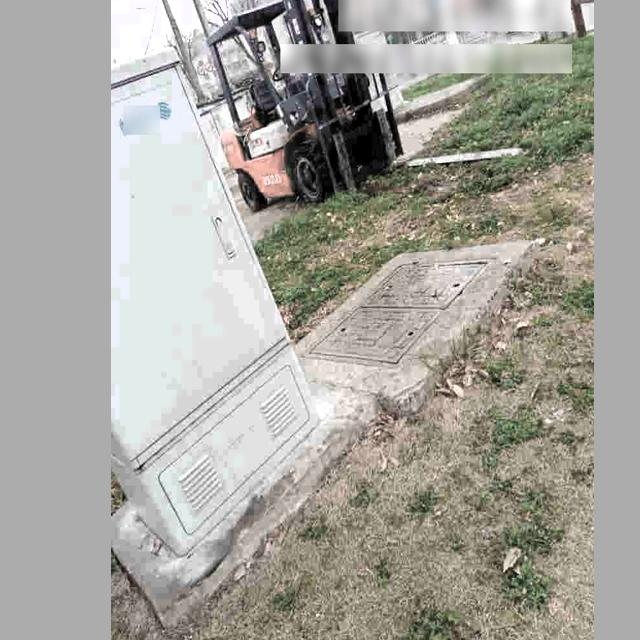good: (301, 258, 492, 368)
